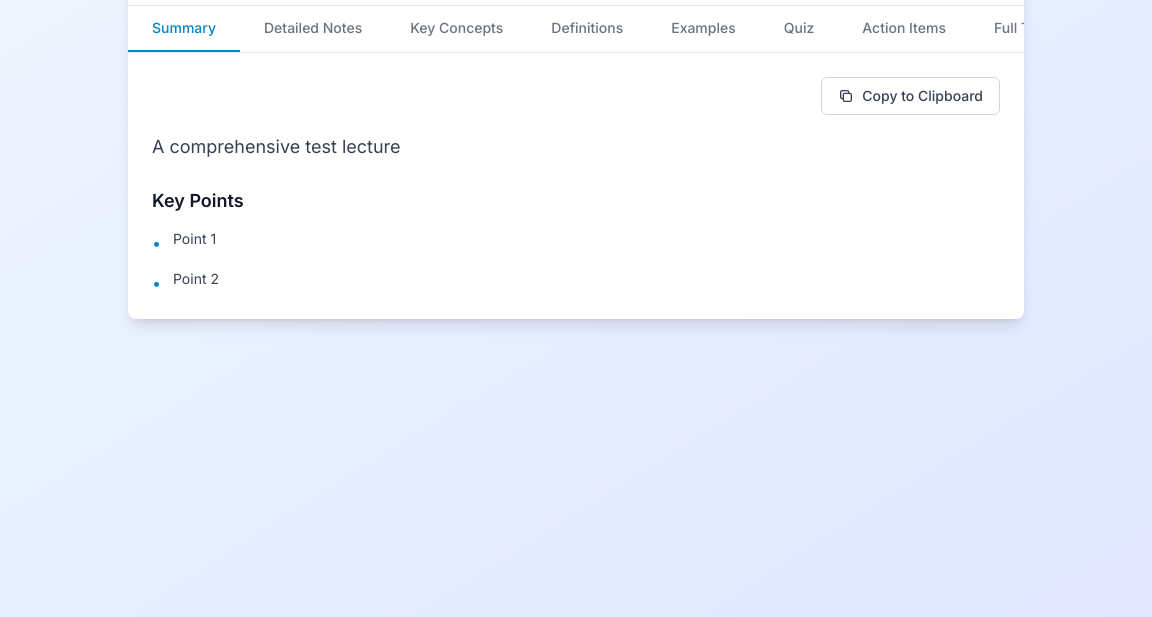
Test: Quiz Feature › Quiz Results › should show score after submitting answers
This screenshot has width=1152, height=617.
Click the button "Quiz": (799, 29) [760,6,838,52]
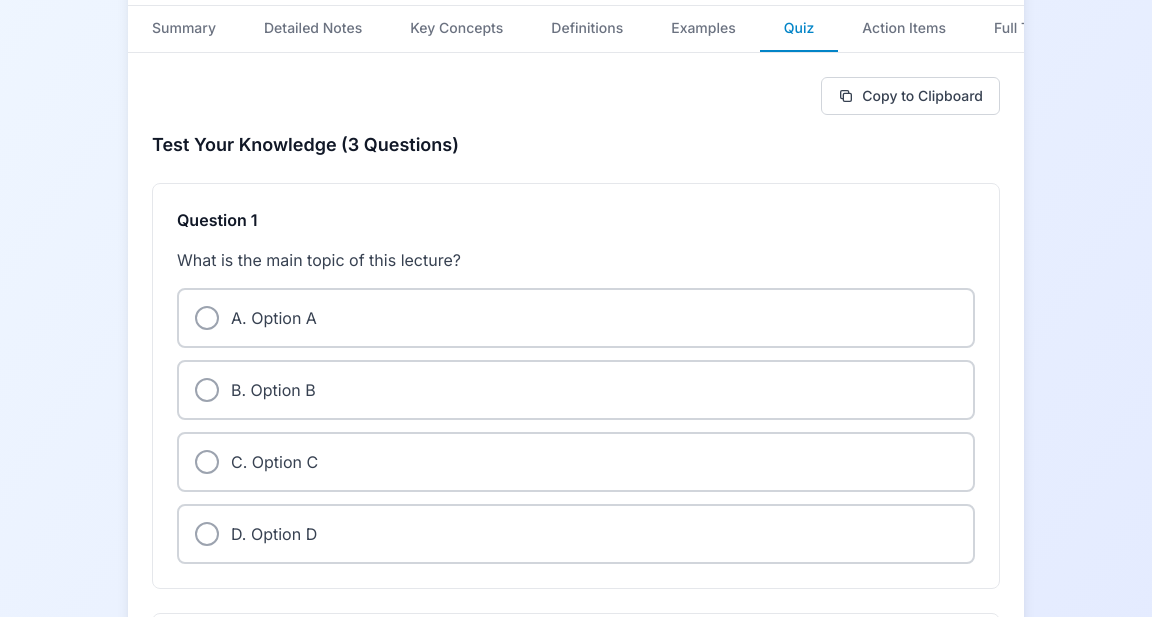
// Q1: correct answer is index 1 (Option B)
Click the button "B. Option B": (283, 390) [177,360,975,420]
(page scrolled)
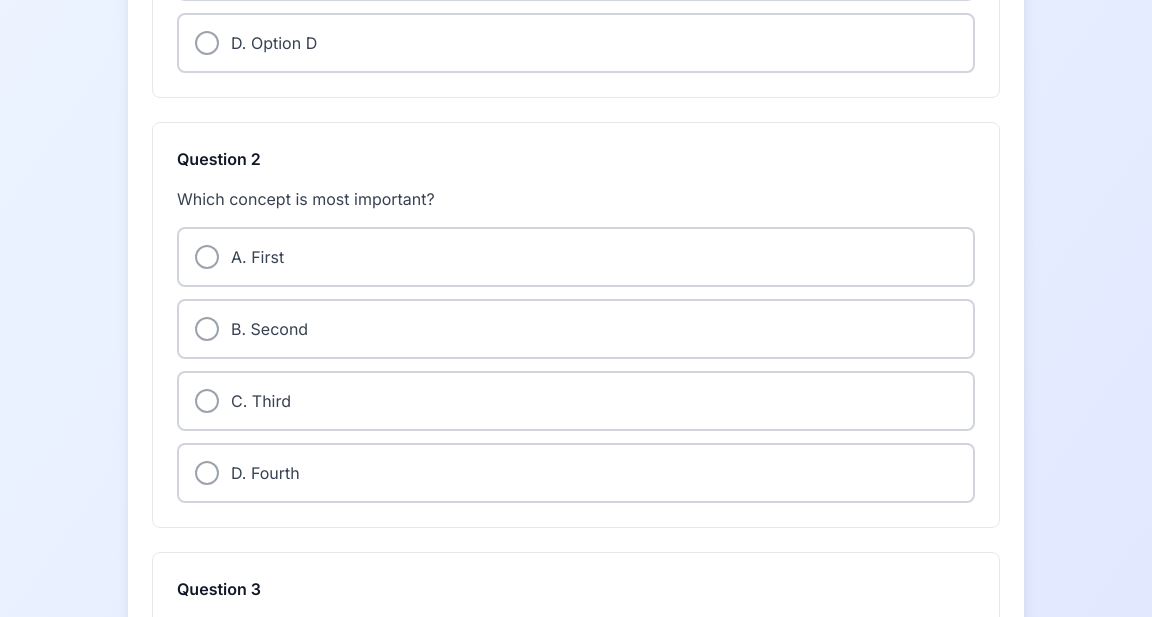
// Q2: correct answer is index 0 (First)
Click the button "A. First": (268, 257) [177,227,975,287]
(page scrolled)
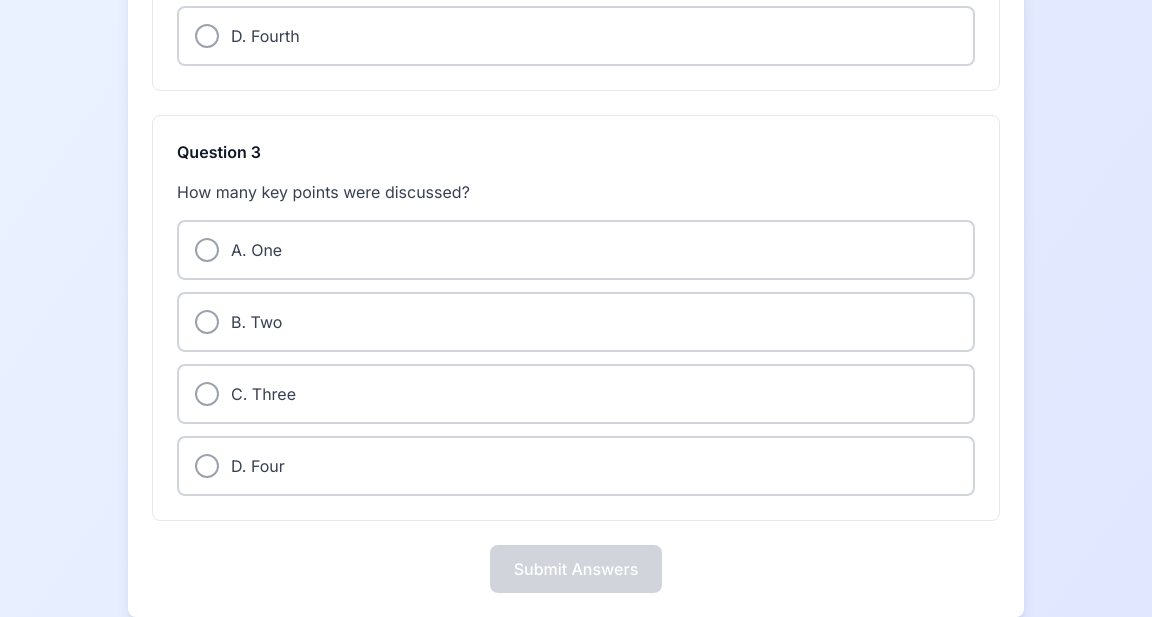
// Q3: correct answer is index 2 (Three)
Click the button "C. Three": (274, 394) [177,364,975,424]
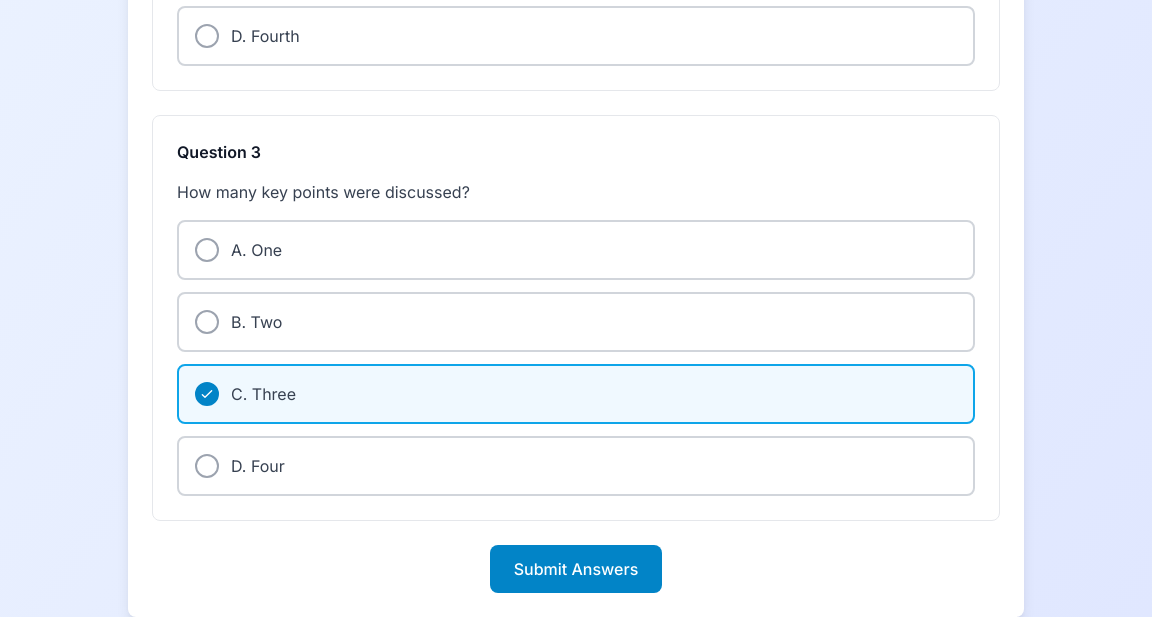
Click the button "Submit Answers": (576, 569) [490,545,662,593]
(page scrolled)
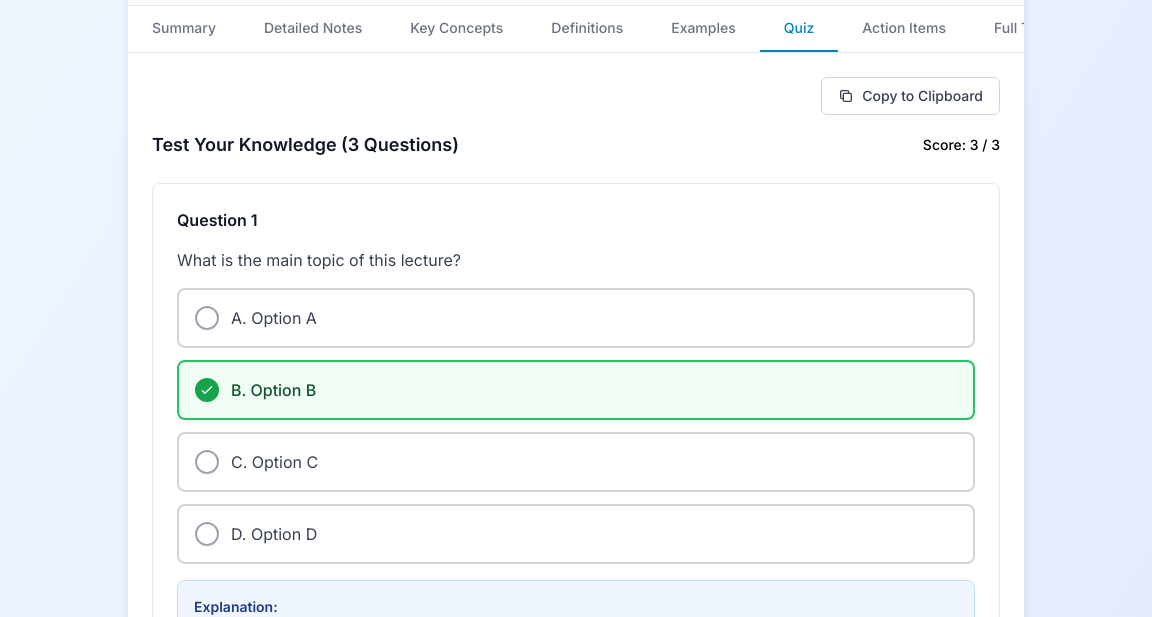
Expected: the text "Score: 3 / 3" is shown, [923,136,1000,153]
